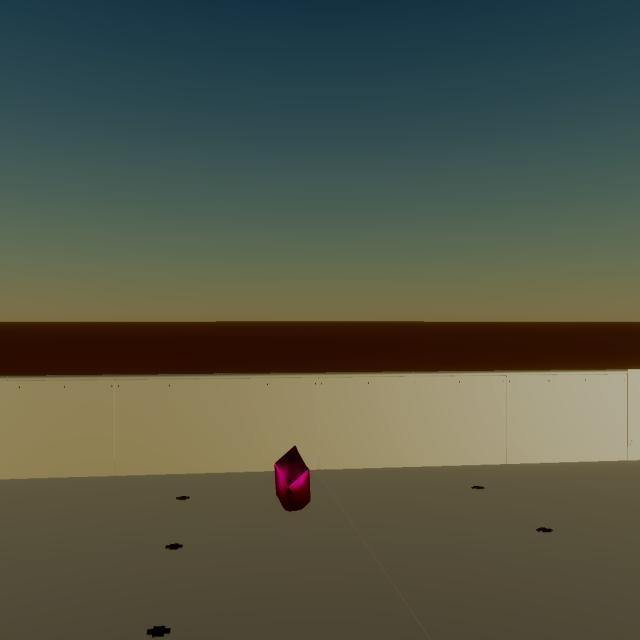frc_cube: (274, 446, 310, 512)
